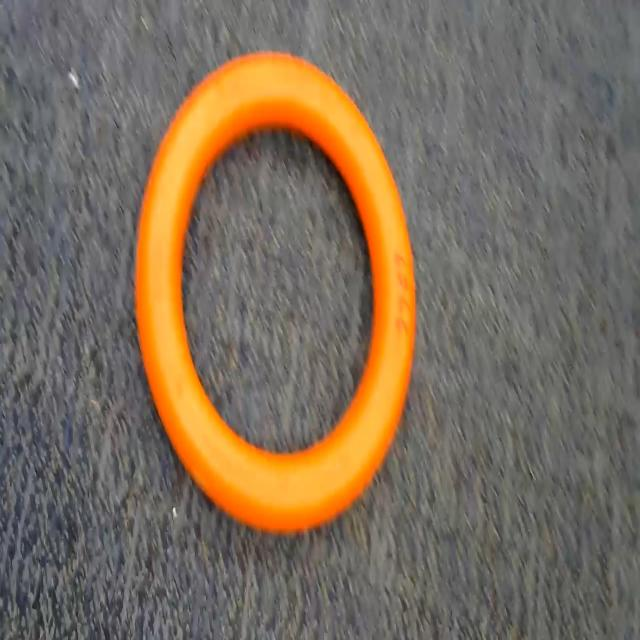note: (133, 42, 432, 538)
